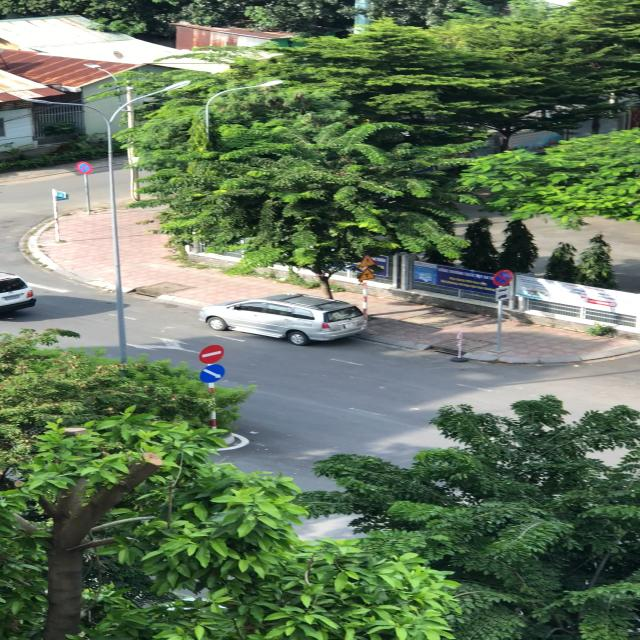Bien bao cam di nguoc chieu: (199, 343, 230, 365)
Bien bao cam dung xe va do xe: (489, 269, 516, 288)
Bien bao duong nguoi di bo cat ngang: (356, 253, 381, 268), (355, 268, 380, 282)
Bien bao huong phai di vong chuong ngai vat: (197, 365, 232, 384)
